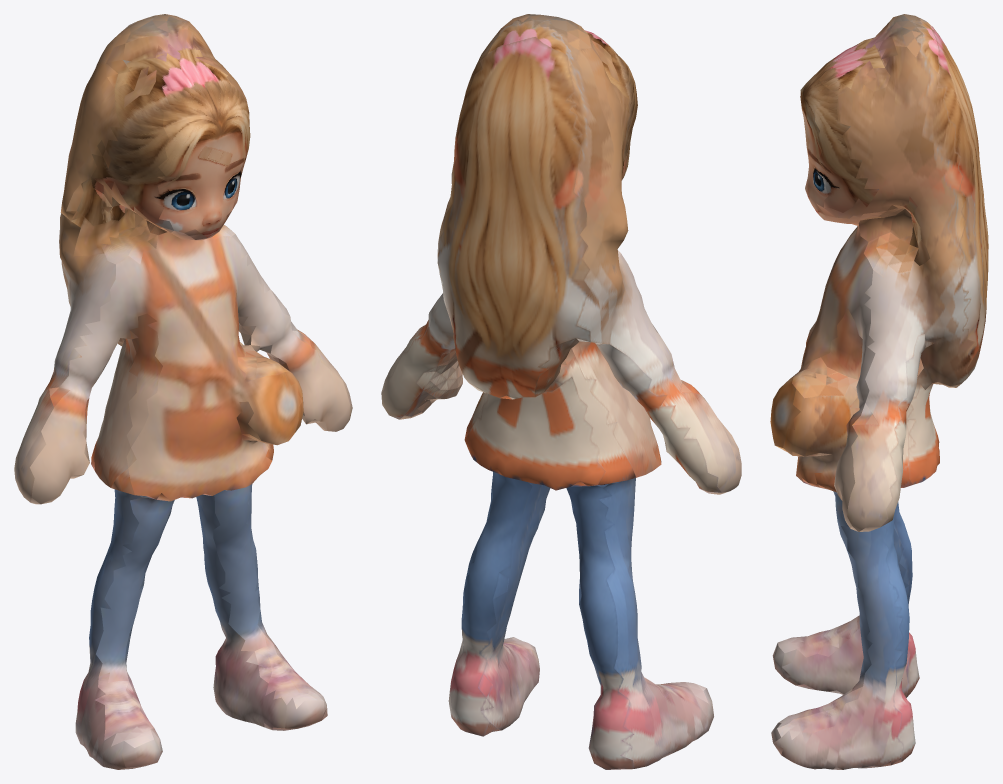
Rendered from pie-baker-patch-toon.glb.
3 views of the same model, side by side, from view 1: azimuth 30°, elevation 25°; view 2: azimuth 150°, elevation 25°; view 3: azimuth 270°, elevation 25° (orthographic). The views are drawn at different scales.
Parts seen in each view (by area): view 1: world; view 2: world; view 3: world.
Part boxes in pixels (x1,y1,x2,y2): world: (14, 14, 352, 769); world: (381, 14, 741, 769); world: (770, 14, 988, 769).
Bounding box in the file's own units: 0.4729 × 0.9542 × 0.2691.
1 material, 1 textured.
